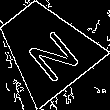N_NW: (13, 15, 78, 80)
